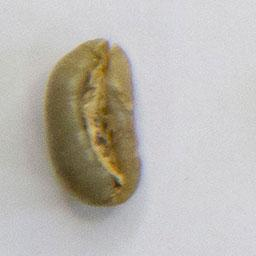longberry: (40, 33, 146, 208)
